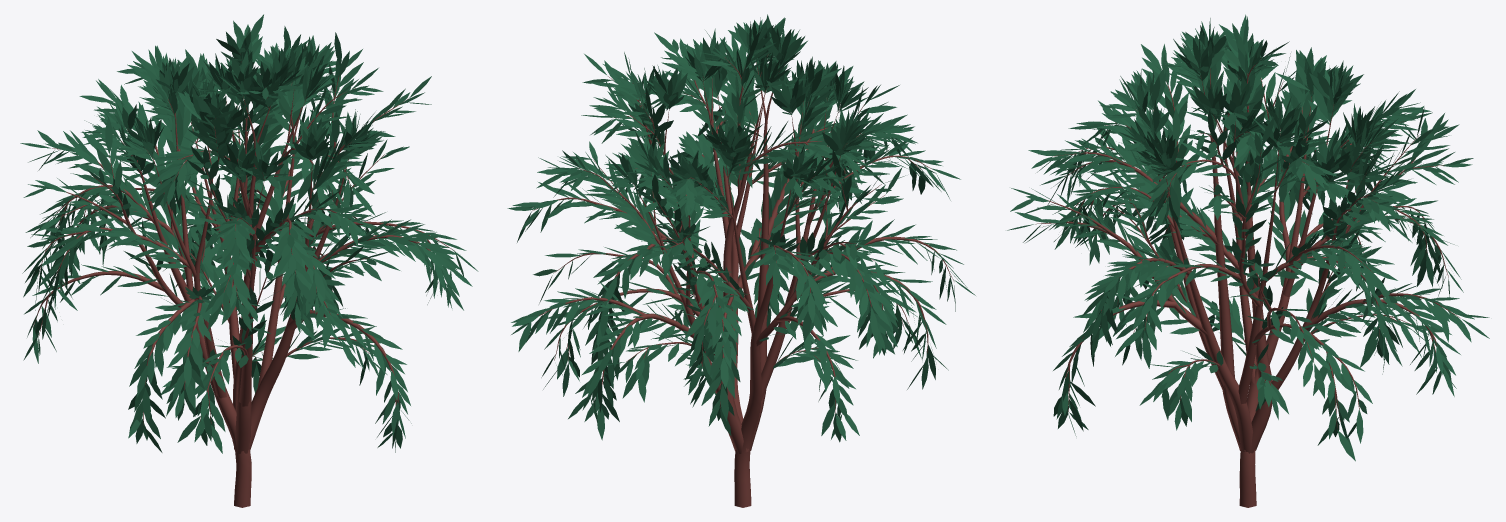
File: Tree4.glb
3 renders of one model, left to right at view 1: azimuth 30°, elevation 25°; view 2: azimuth 150°, elevation 25°; view 3: azimuth 270°, elevation 25°, orthographic.
Parts seen in each view (by area): view 1: leaves.002, tree.002; view 2: leaves.002, tree.002; view 3: leaves.002, tree.002.
Part boxes in pixels (<box>): leaves.002: <box>20,14,478,453</box>; tree.002: <box>32,61,454,507</box>; leaves.002: <box>507,14,975,442</box>; tree.002: <box>532,54,954,507</box>; leaves.002: <box>1007,14,1489,461</box>; tree.002: <box>1035,57,1460,507</box>.
Size of the model in its own units: 4.45 by 5.54 by 5.07.
